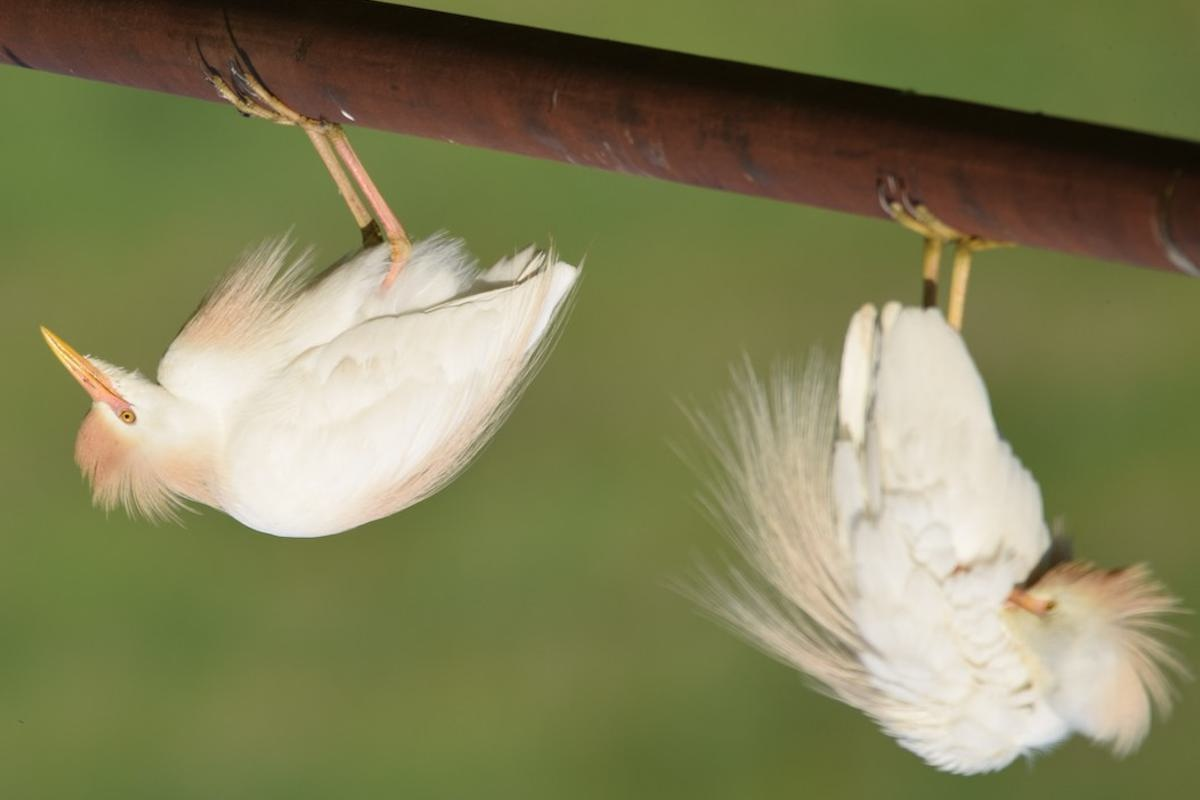egret: (684, 121, 1163, 786), (11, 75, 604, 572)
